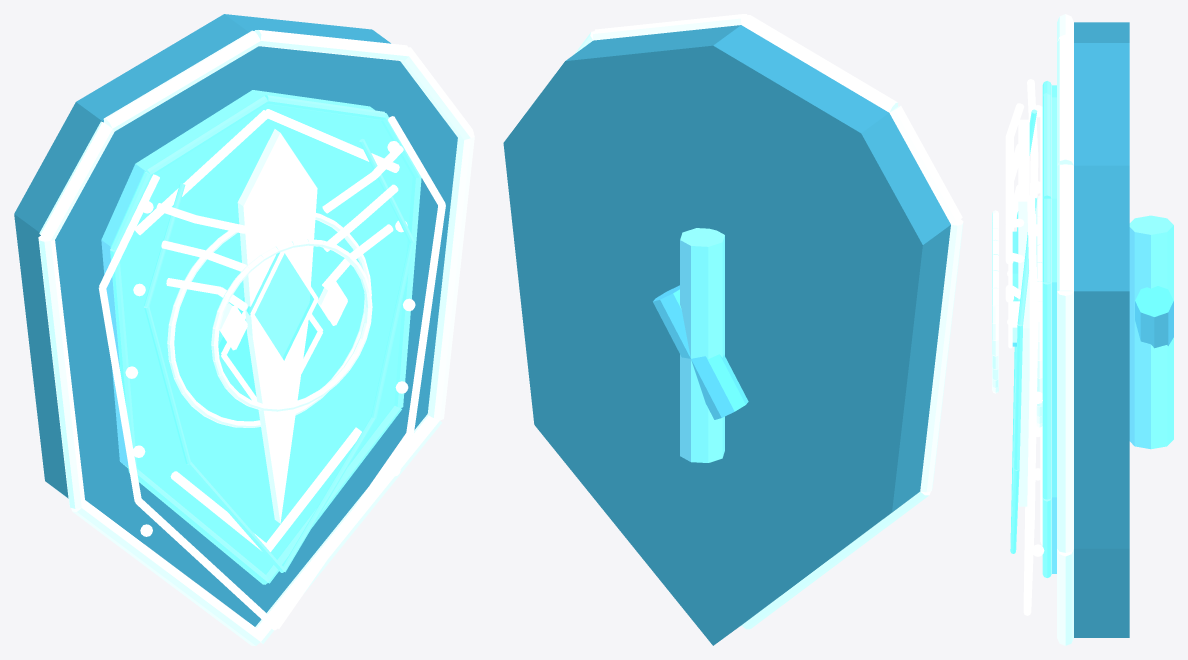
Rendered from bildmaster_guard_hologram_v2.glb.
The picture shows the model from 3 angles, left to right: view 1: azimuth 30°, elevation 25°; view 2: azimuth 150°, elevation 25°; view 3: azimuth 270°, elevation 25°; orthographic projection.
Visible parts, largest first — view 1: guard_metal, guard_core, guard_light, guard_white, guard_aqua, guard_glass; view 2: guard_core, guard_light, guard_metal, guard_body; view 3: guard_core, guard_light, guard_metal, guard_white, guard_aqua, guard_body, guard_glass.
Part boxes in pixels (left/top/right/bottom): guard_metal: left=101, top=90, right=412, bottom=573; guard_core: left=14, top=14, right=457, bottom=626; guard_light: left=38, top=30, right=474, bottom=645; guard_white: left=98, top=109, right=445, bottom=630; guard_aqua: left=110, top=95, right=421, bottom=584; guard_glass: left=218, top=252, right=317, bottom=396; guard_core: left=503, top=25, right=950, bottom=645; guard_light: left=574, top=14, right=963, bottom=629; guard_metal: left=680, top=228, right=724, bottom=462; guard_body: left=653, top=285, right=748, bottom=419; guard_core: left=1074, top=22, right=1129, bottom=637; guard_light: left=992, top=14, right=1073, bottom=645; guard_metal: left=1052, top=85, right=1173, bottom=573; guard_white: left=1005, top=79, right=1044, bottom=615; guard_aqua: left=1010, top=81, right=1051, bottom=577; guard_body: left=1135, top=286, right=1173, bottom=348; guard_glass: left=1012, top=231, right=1020, bottom=346.
Bounding box in the file's own units: 0.6519 × 0.88 × 0.2385.
